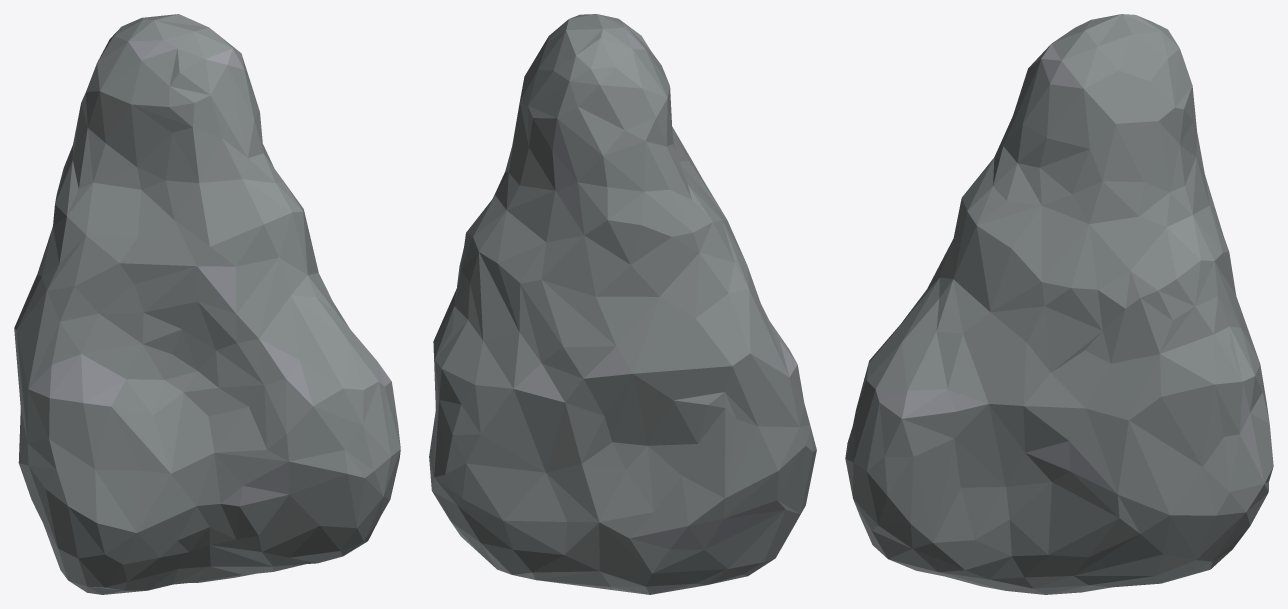
The model's file is mesh_rock_big_06.fbx.
3 views of the same model, side by side, from view 1: azimuth 30°, elevation 25°; view 2: azimuth 150°, elevation 25°; view 3: azimuth 270°, elevation 25° (orthographic). The views are drawn at different scales.
Parts seen in each view (by area): view 1: mesh_rock_big_06_LOD0; view 2: mesh_rock_big_06_LOD0; view 3: mesh_rock_big_06_LOD0.
Boxes of the visible parts, bbox=[...] form: mesh_rock_big_06_LOD0: bbox=[14, 14, 400, 594]; mesh_rock_big_06_LOD0: bbox=[429, 14, 816, 594]; mesh_rock_big_06_LOD0: bbox=[845, 14, 1273, 594].
Size of what is drawn, in the model's own units: 1.66 by 2.83 by 1.96.
